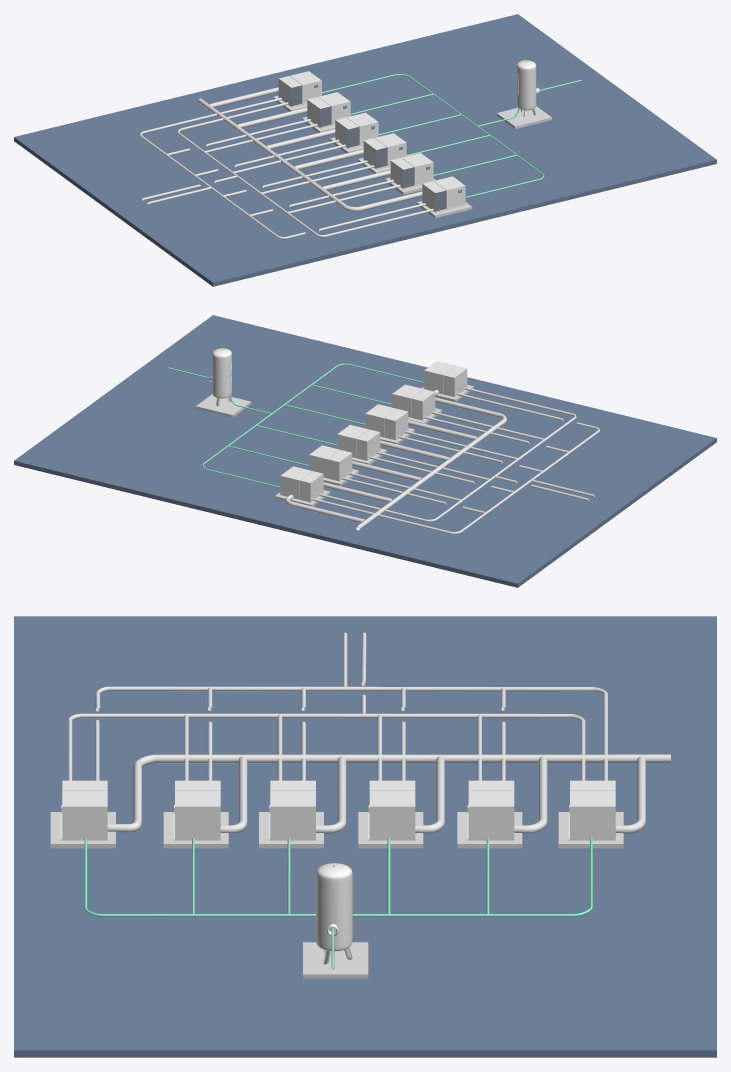
File: five.glb
The picture shows the model from 3 angles, top to bottom: view 1: azimuth 30°, elevation 25°; view 2: azimuth 150°, elevation 25°; view 3: azimuth 270°, elevation 25°; orthographic projection. The views are drawn at different scales.
Visible parts, largest first — view 1: 底, 扫描, 扫描_1, 扫描_2, 真空泵底座, 真空泵底座_1, 真空泵底座_5, 真空泵底座_3, 真空泵底座_4, 真空泵底座_2, 真空罐, 真空泵_6; view 2: 底, 扫描, 扫描_1, 扫描_2, 真空泵底座_5, 真空泵底座, 真空泵底座_4, 真空泵底座_3, 真空泵底座_2, 真空泵底座_1, 真空罐, 真空泵_6; view 3: 底, 扫描, 扫描_1, 真空罐, 扫描_2, 真空泵底座_4, 真空泵底座_3, 真空泵底座_5, 真空泵底座_1, 真空泵底座, 真空泵底座_2, 真空泵_6 (+6 smaller).
Boxes of the visible parts, x1,y1,x2,y2 form: 底: (14, 14, 716, 286); 扫描: (139, 97, 433, 239); 扫描_1: (198, 87, 422, 211); 扫描_2: (322, 74, 581, 198); 真空泵底座: (422, 176, 465, 212); 真空泵底座_1: (390, 153, 433, 189); 真空泵底座_5: (278, 71, 321, 107); 真空泵底座_3: (335, 112, 378, 148); 真空泵底座_4: (307, 92, 350, 128); 真空泵底座_2: (363, 133, 406, 169); 真空罐: (516, 60, 539, 118); 真空泵_6: (496, 106, 551, 128); 底: (14, 315, 716, 587); 扫描: (313, 387, 599, 534); 扫描_1: (285, 389, 506, 530); 扫描_2: (167, 363, 424, 487); 真空泵底座_5: (280, 466, 323, 502); 真空泵底座: (424, 361, 467, 396); 真空泵底座_4: (309, 445, 352, 481); 真空泵底座_3: (337, 425, 380, 460); 真空泵底座_2: (365, 404, 408, 440); 真空泵底座_1: (392, 384, 435, 420); 真空罐: (209, 348, 231, 406); 真空泵_6: (196, 394, 251, 417); 底: (14, 616, 716, 1057); 扫描: (67, 632, 607, 780); 扫描_1: (107, 754, 670, 833); 真空罐: (316, 863, 352, 965); 扫描_2: (84, 838, 592, 969); 真空泵底座_4: (467, 780, 514, 840); 真空泵底座_3: (368, 780, 415, 840); 真空泵底座_5: (568, 780, 615, 840); 真空泵底座_1: (173, 780, 220, 840); 真空泵底座: (60, 780, 107, 840); 真空泵底座_2: (269, 780, 315, 840); 真空泵_6: (303, 942, 368, 978).
Bounding box in the file's own units: 0.8784 × 0.1009 × 0.601.
